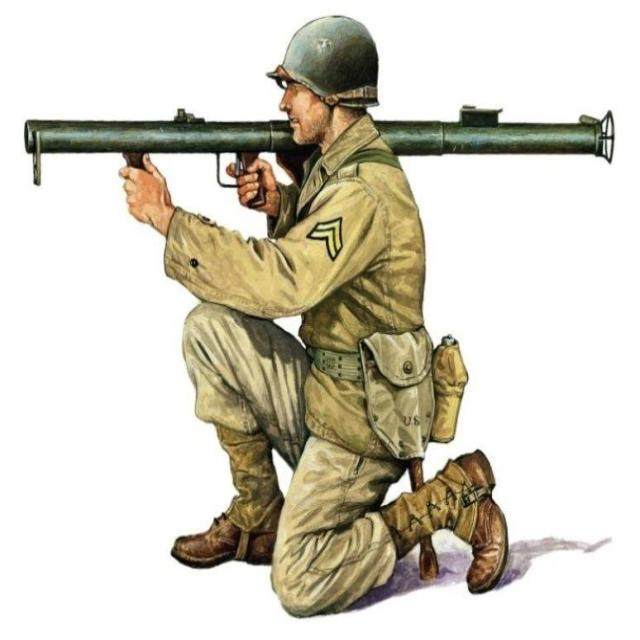weapon: (14, 77, 624, 224)
